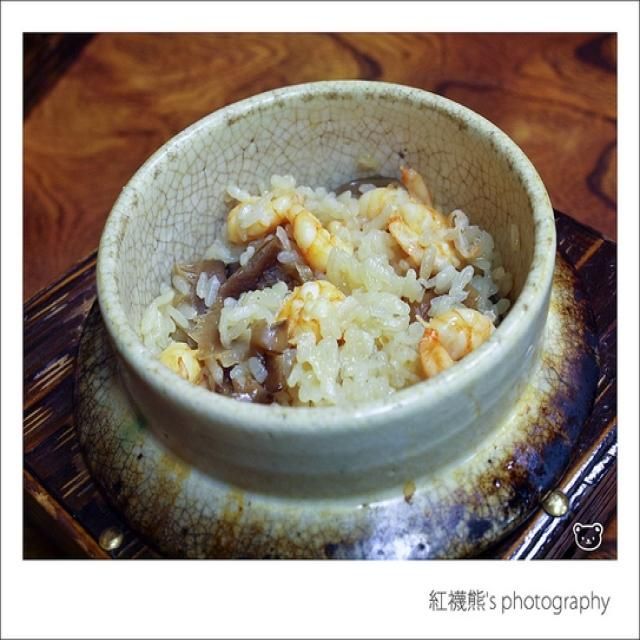炸货点心: (0, 117, 640, 640)
